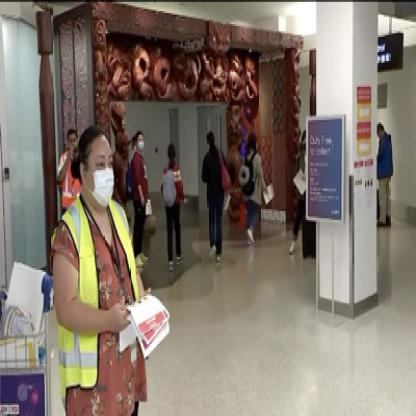with_mask: (86, 148, 116, 207), (138, 133, 144, 148)
